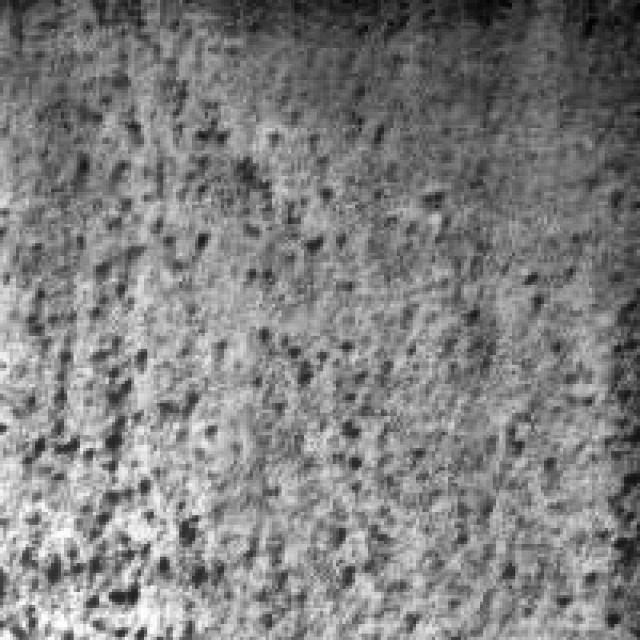Rolled_in_Scale: (25, 77, 198, 608), (173, 122, 602, 304), (221, 329, 416, 576), (506, 272, 628, 627)
